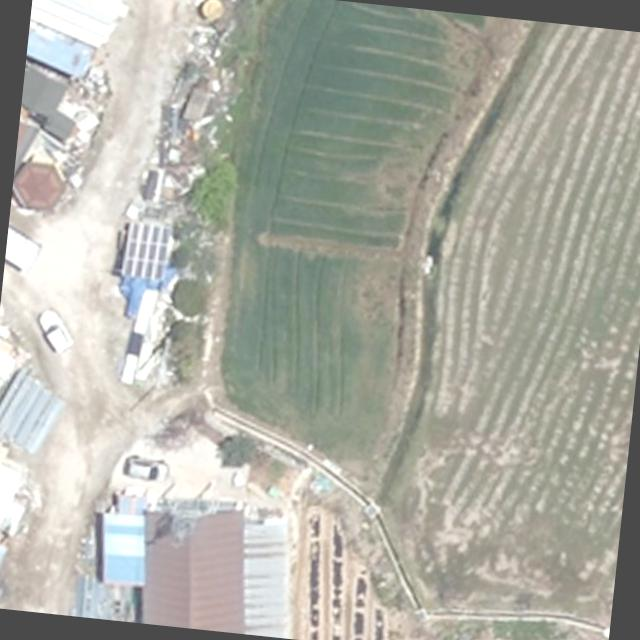solar: (116, 215, 172, 282)
